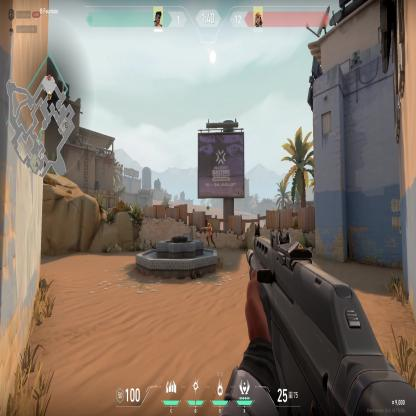enemy: (204, 221, 216, 249)
